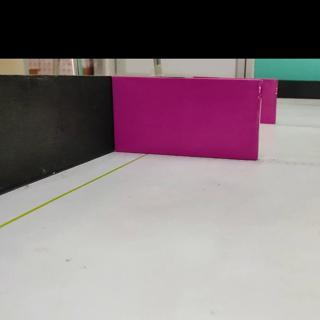xparking: (116, 79, 255, 160)
